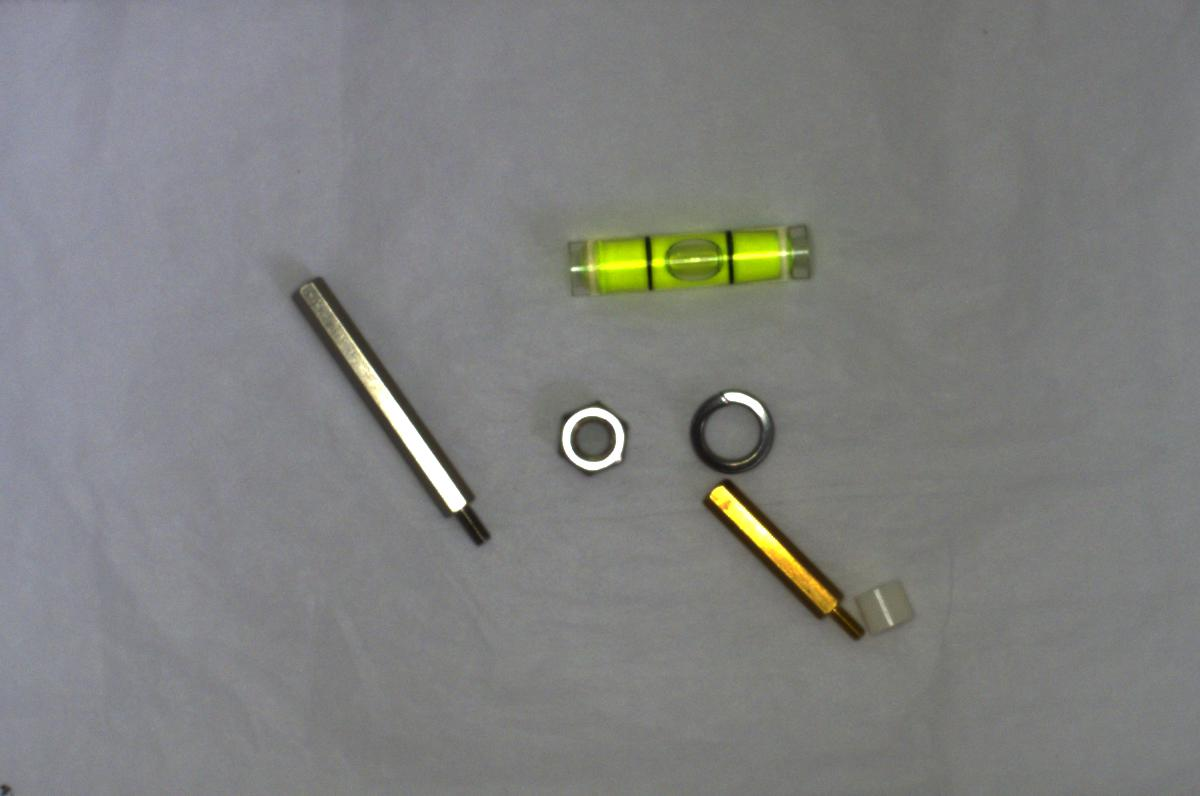Hexagon nut: (548, 393, 631, 480)
Hexagon pillar: (695, 474, 870, 645)
Hexagonal steel column: (285, 272, 493, 555)
Horizontal bubble: (564, 220, 820, 296)
Plastic cushion pillar: (842, 574, 918, 642)
Spring washer: (684, 381, 778, 479)
